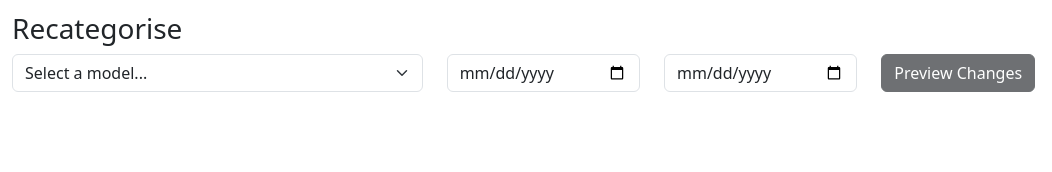
it: Recategorise › should pre-fill date range from selected model
The width and height of the screenshot is (1052, 172).
Select "test-model" in the dropdown at {"x": 217, "y": 73}, box [12,54,423,92]
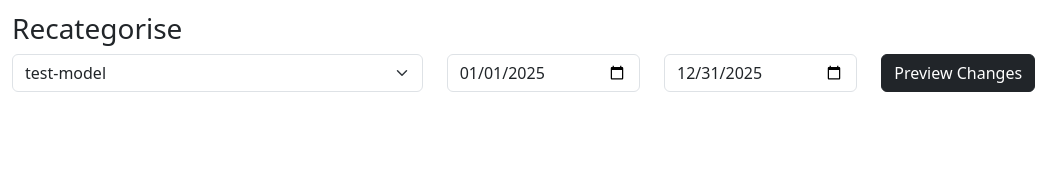
Check: the date field named "From date" holds "2025-01-01", box [447,54,640,92]
Check: the date field named "To date" holds "2025-12-31", box [664,54,857,92]
